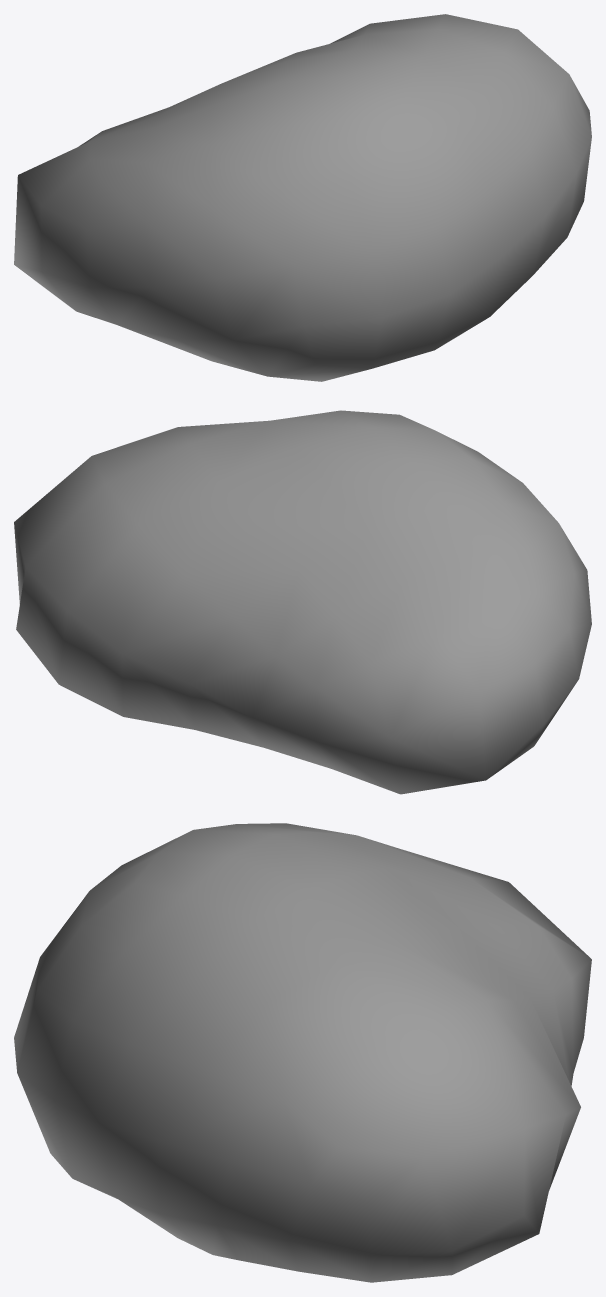
Rendered from SoftRock_16.fbx.
The picture shows the model from 3 angles, top to bottom: view 1: azimuth 30°, elevation 25°; view 2: azimuth 150°, elevation 25°; view 3: azimuth 270°, elevation 25°; orthographic projection. The views are drawn at different scales.
Visible parts, largest first — view 1: SoftRock_16; view 2: SoftRock_16; view 3: SoftRock_16.
Part boxes in pixels (bbox=[...]): SoftRock_16: bbox=[14, 14, 591, 381]; SoftRock_16: bbox=[14, 410, 591, 794]; SoftRock_16: bbox=[14, 823, 591, 1282].
Size of the model in its own units: 107 by 51.92 by 82.36.
